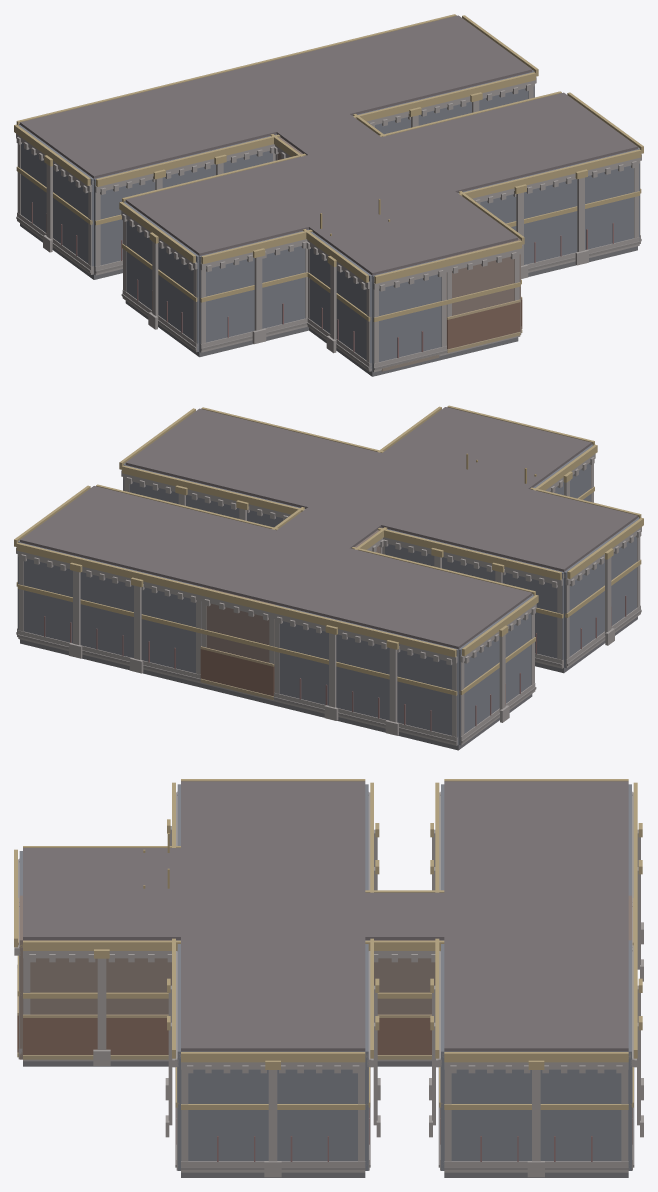
File: floor_00.glb
The picture shows the model from 3 angles, top to bottom: view 1: azimuth 30°, elevation 25°; view 2: azimuth 150°, elevation 25°; view 3: azimuth 270°, elevation 25°; orthographic projection. The views are drawn at different scales.
Visible parts, largest first — view 1: fe-f0-hall-ceiling, fe-f0-room1-ceiling, fe-f0-room4-ceiling, fe-f0-room2-ceiling, fe-f0-room3-ceiling, fe-f0-room4-top-end, fe-f0-room3-top-end, fe-f0-regular-ceiling, fe-f0-room3-left-end, fe-f0-regular-top-end, fe-f0-room1-left-end, fe-f0-regular-left-end (+31 smaller); view 2: fe-f0-hall-ceiling, fe-f0-room1-ceiling, fe-f0-room3-ceiling, fe-f0-room2-ceiling, fe-f0-room4-ceiling, fe-f0-room1-bottom-end, fe-f0-room2-bottom-end, fe-f0-regular-ceiling, fe-f0-room1-left-end, fe-f0-room3-left-end, fe-f0-room3-bottom-end, fe-f0-hall-bottom-end (+34 smaller); view 3: fe-f0-hall-ceiling, fe-f0-room2-ceiling, fe-f0-room4-ceiling, fe-f0-room1-ceiling, fe-f0-room3-ceiling, fe-f0-room2-right-end, fe-f0-room4-right-end, fe-f0-regular-ceiling, fe-f0-hall-right-end, fe-f0-hall-right-finish-end-lower, fe-f0-hall-right-1-solid, facade-14-cornice (+30 smaller).
Boxes of the visible parts, bbox=[...] form: fe-f0-hall-ceiling: bbox=[203, 60, 518, 257]; fe-f0-room1-ceiling: bbox=[20, 78, 276, 178]; fe-f0-room4-ceiling: bbox=[381, 92, 637, 192]; fe-f0-room2-ceiling: bbox=[276, 15, 532, 115]; fe-f0-room3-ceiling: bbox=[125, 155, 381, 255]; fe-f0-room4-top-end: bbox=[458, 149, 637, 264]; fe-f0-room3-top-end: bbox=[199, 229, 309, 352]; fe-f0-regular-ceiling: bbox=[309, 209, 445, 275]; fe-f0-room3-left-end: bbox=[124, 202, 199, 352]; fe-f0-regular-top-end: bbox=[372, 258, 445, 371]; fe-f0-room1-left-end: bbox=[18, 125, 93, 274]; fe-f0-regular-left-end: bbox=[309, 232, 372, 371]; fe-f0-hall-ceiling: bbox=[202, 407, 517, 604]; fe-f0-room1-ceiling: bbox=[276, 548, 532, 649]; fe-f0-room3-ceiling: bbox=[381, 471, 637, 571]; fe-f0-room2-ceiling: bbox=[20, 486, 275, 586]; fe-f0-room4-ceiling: bbox=[125, 408, 381, 508]; fe-f0-room1-bottom-end: bbox=[275, 605, 458, 745]; fe-f0-room2-bottom-end: bbox=[19, 542, 202, 673]; fe-f0-regular-ceiling: bbox=[455, 424, 591, 488]; fe-f0-room1-left-end: bbox=[458, 595, 533, 745]; fe-f0-room3-left-end: bbox=[564, 518, 639, 667]; fe-f0-room3-bottom-end: bbox=[385, 529, 563, 664]; fe-f0-hall-bottom-end: bbox=[202, 587, 275, 692]; fe-f0-hall-ceiling: bbox=[23, 892, 628, 940]; fe-f0-room2-ceiling: bbox=[444, 937, 628, 1051]; fe-f0-room4-ceiling: bbox=[181, 937, 365, 1051]; fe-f0-room1-ceiling: bbox=[444, 781, 628, 892]; fe-f0-room3-ceiling: bbox=[181, 781, 365, 892]; fe-f0-room2-right-end: bbox=[444, 1051, 628, 1161]; fe-f0-room4-right-end: bbox=[181, 1051, 365, 1161]; fe-f0-regular-ceiling: bbox=[23, 848, 180, 892]; fe-f0-hall-right-end: bbox=[23, 940, 177, 1014]; fe-f0-hall-right-finish-end-lower: bbox=[23, 1018, 168, 1054]; fe-f0-hall-right-1-solid: bbox=[369, 940, 440, 1014]; facade-14-cornice: bbox=[444, 1052, 628, 1062].
Bounding box in the file's own units: 15.34 × 3.79 × 14.58.
